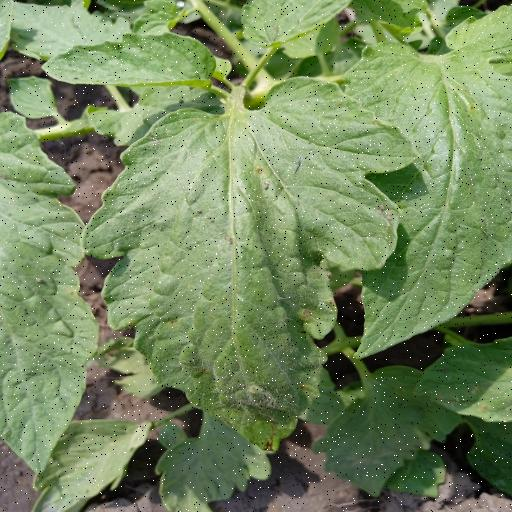Tomato_Mildiou: (78, 73, 421, 469)
